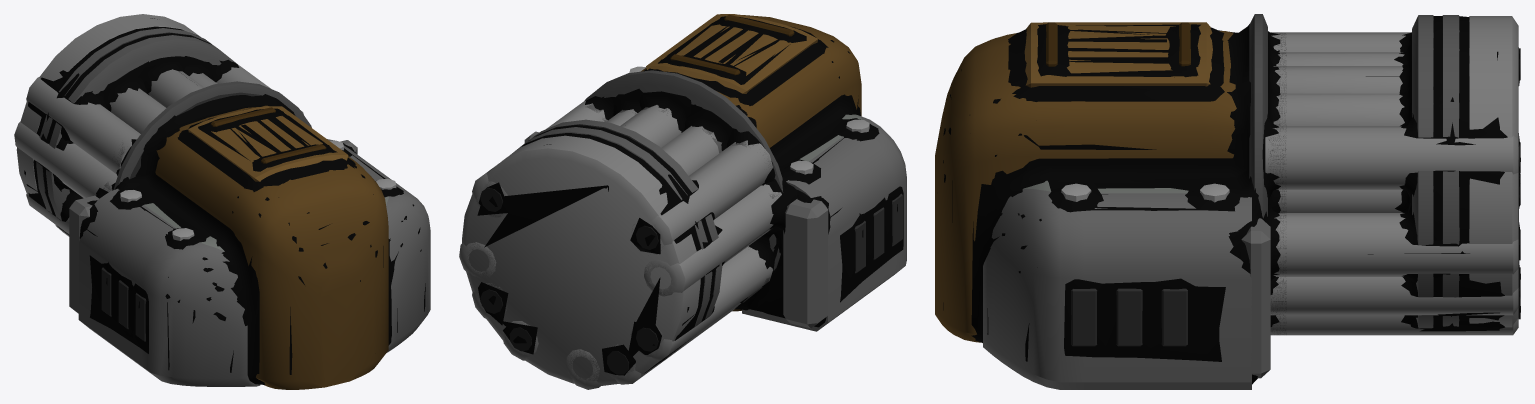
The model's file is vulcan-shot-option.glb.
3 renders of one model, left to right at view 1: azimuth 30°, elevation 25°; view 2: azimuth 150°, elevation 25°; view 3: azimuth 270°, elevation 25°, orthographic. The views are drawn at different scales.
Parts seen in each view (by area): view 1: vulcan-shot-option-body, vulcan-shot-option-outline-167, vulcan-shot-option-outline-186, vulcan-shot-option-barrels-186, vulcan-shot-option-outline-205, vulcan-shot-option-barrels-205, vulcan-shot-option-barrels-167; view 2: vulcan-shot-option-barrels-186, vulcan-shot-option-body, vulcan-shot-option-outline-186, vulcan-shot-option-outline-167, vulcan-shot-option-barrels-167, vulcan-shot-option-barrels-205, vulcan-shot-option-outline-205; view 3: vulcan-shot-option-body, vulcan-shot-option-barrels-186, vulcan-shot-option-outline-186, vulcan-shot-option-outline-167, vulcan-shot-option-barrels-167, vulcan-shot-option-barrels-205, vulcan-shot-option-outline-205.
Boxes of the visible parts, left/top/right/bottom form: vulcan-shot-option-body: left=36, top=28, right=430, bottom=389; vulcan-shot-option-outline-167: left=37, top=34, right=421, bottom=381; vulcan-shot-option-outline-186: left=25, top=26, right=425, bottom=384; vulcan-shot-option-barrels-186: left=16, top=14, right=303, bottom=234; vulcan-shot-option-outline-205: left=24, top=18, right=424, bottom=384; vulcan-shot-option-barrels-205: left=26, top=72, right=217, bottom=236; vulcan-shot-option-barrels-167: left=14, top=69, right=204, bottom=197; vulcan-shot-option-barrels-186: left=462, top=101, right=772, bottom=385; vulcan-shot-option-body: left=512, top=14, right=906, bottom=358; vulcan-shot-option-outline-186: left=477, top=19, right=903, bottom=356; vulcan-shot-option-outline-167: left=538, top=16, right=903, bottom=327; vulcan-shot-option-barrels-167: left=459, top=105, right=781, bottom=389; vulcan-shot-option-barrels-205: left=472, top=109, right=772, bottom=384; vulcan-shot-option-outline-205: left=478, top=17, right=870, bottom=375; vulcan-shot-option-body: left=935, top=14, right=1459, bottom=389; vulcan-shot-option-barrels-186: left=1265, top=16, right=1520, bottom=335; vulcan-shot-option-outline-186: left=937, top=19, right=1520, bottom=380; vulcan-shot-option-outline-167: left=937, top=16, right=1469, bottom=377; vulcan-shot-option-barrels-167: left=1273, top=66, right=1518, bottom=276; vulcan-shot-option-barrels-205: left=1270, top=32, right=1520, bottom=315; vulcan-shot-option-outline-205: left=943, top=16, right=1520, bottom=384.
Bounding box in the file's own units: 0.6768 × 0.5017 × 0.9162.
